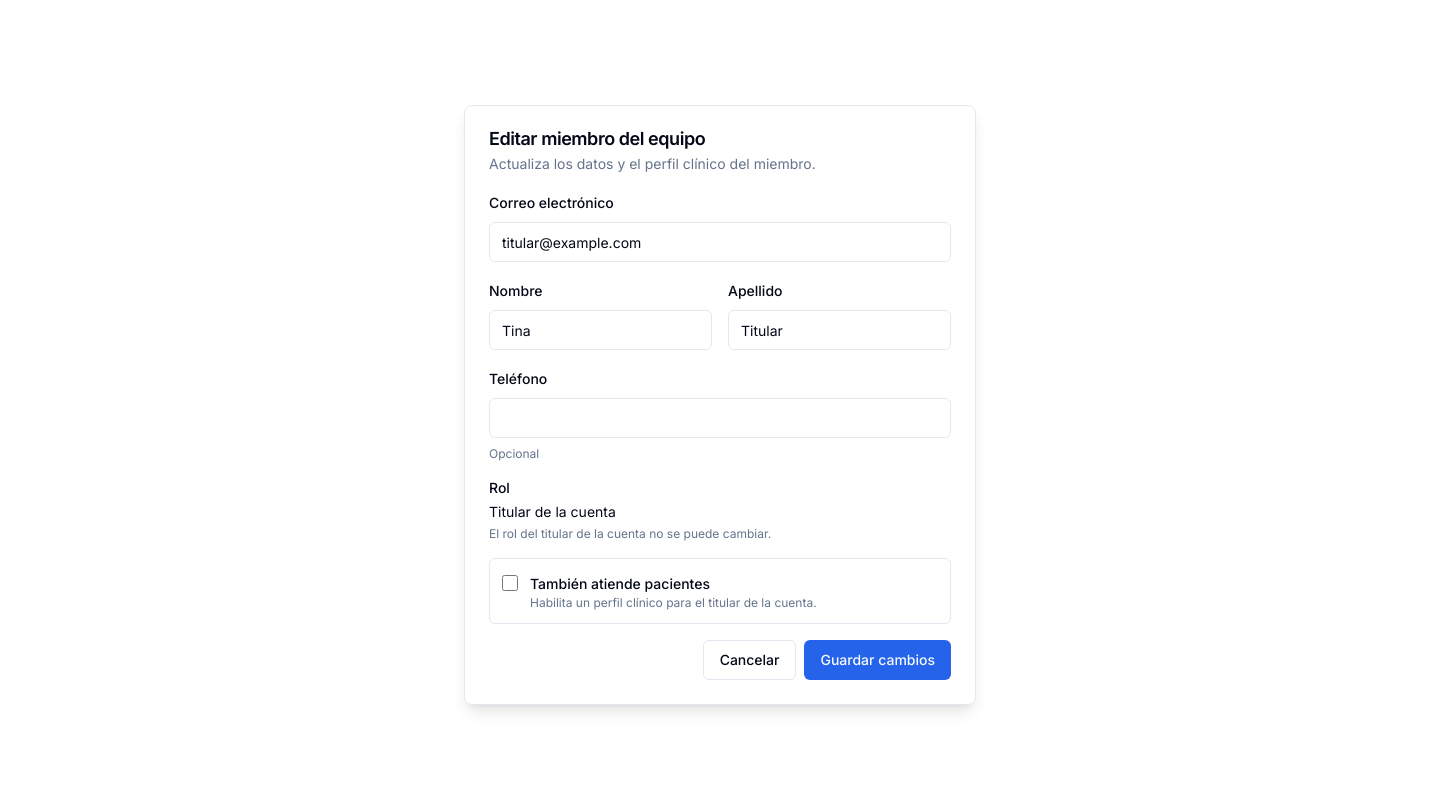
Test: TeamMemberDialog › requires a specialty when the account holder starts seeing patients
Click the checkbox labelled "También atiende pacientes": x=510, y=583 [502,575,518,591]
(page scrolled)
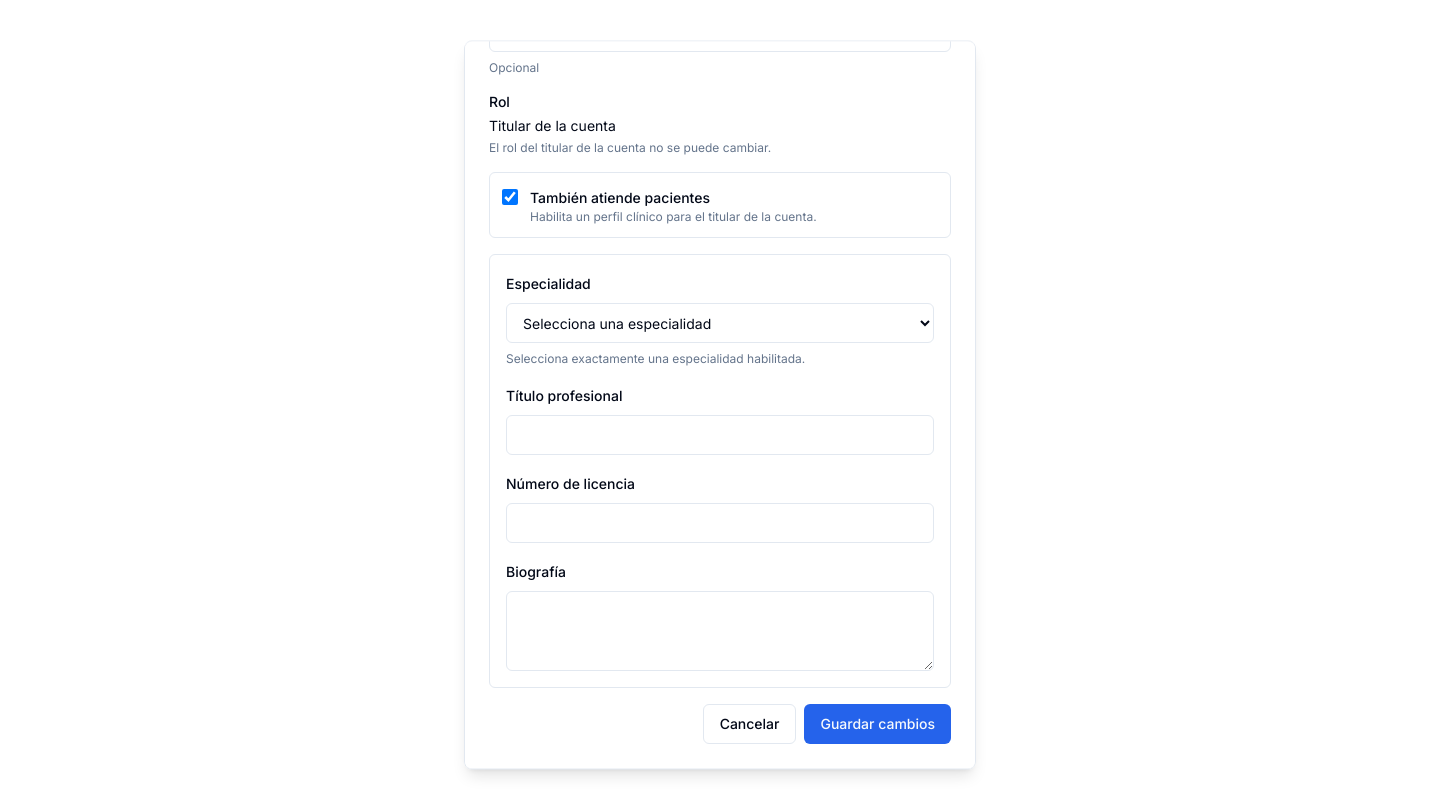
Click the button "Guardar cambios": x=878, y=724 [804,704,951,744]
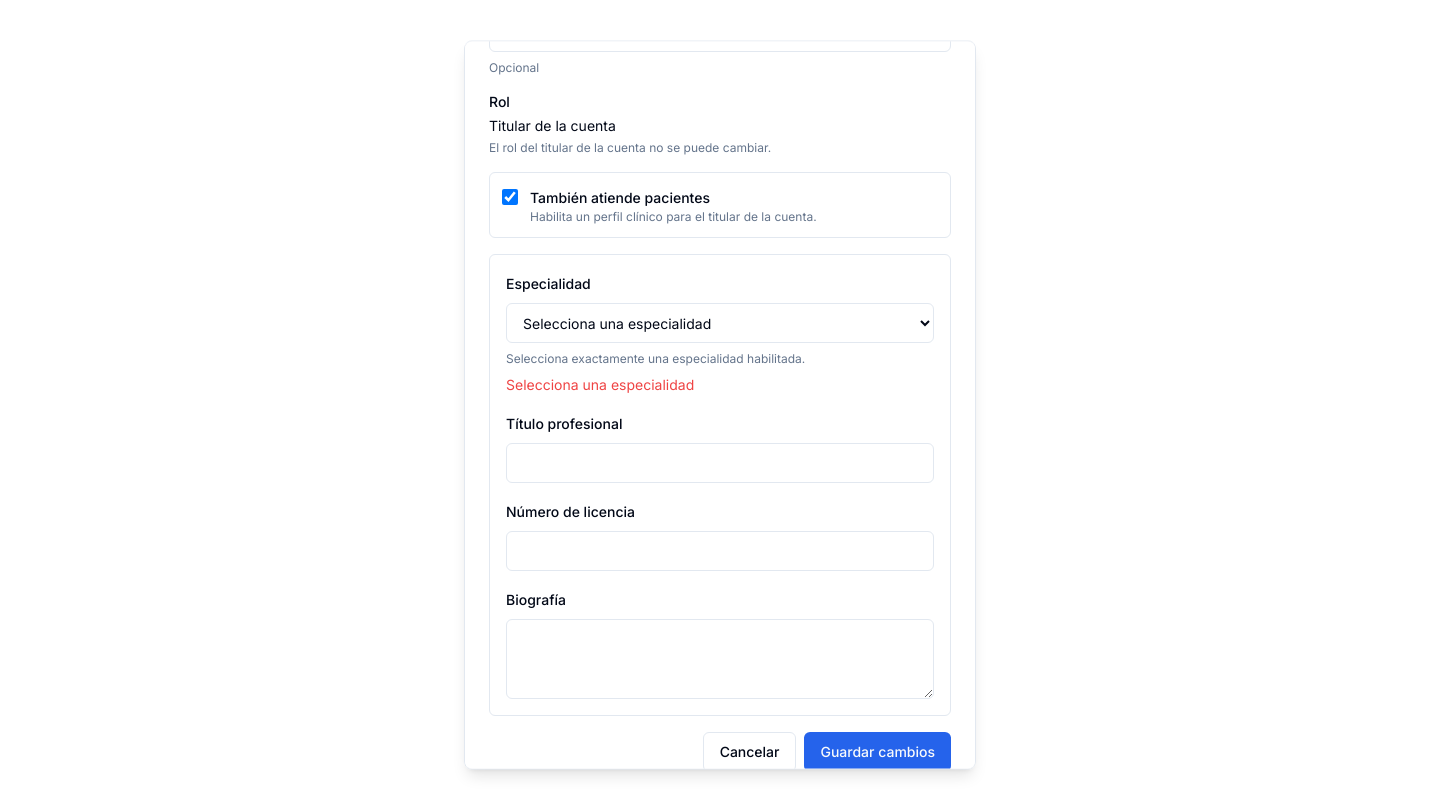
Result: the message reads "Selecciona una especialidad" at [506,376,694,394]
